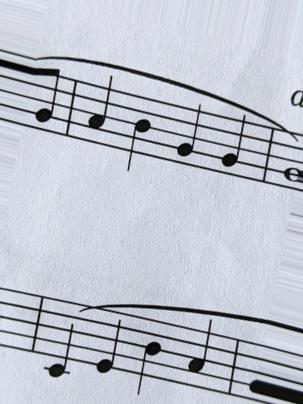A: (184, 313, 216, 400), (83, 71, 114, 157)
B: (122, 88, 157, 177), (133, 312, 165, 399)
E: (92, 305, 119, 380)
G: (215, 108, 251, 187), (172, 97, 205, 175)
LC: (43, 292, 77, 386)
